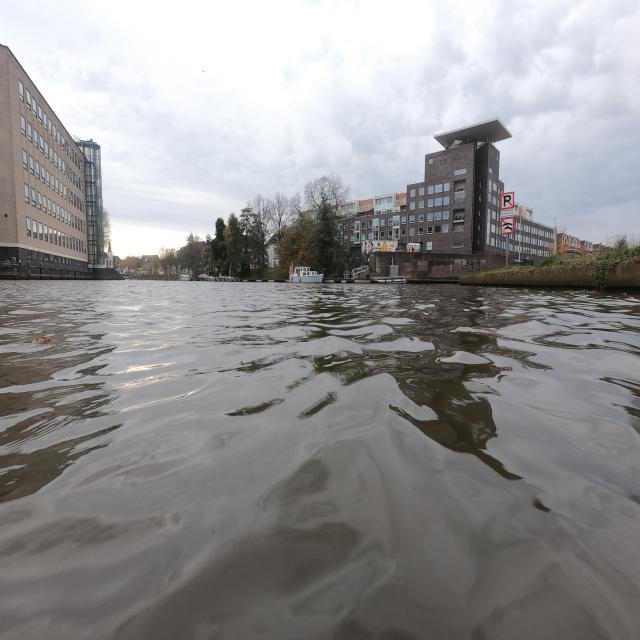boat: (289, 266, 324, 282)
dock: (458, 262, 601, 288), (604, 257, 640, 289)
sky: (0, 1, 640, 257)
water: (0, 280, 640, 638)
